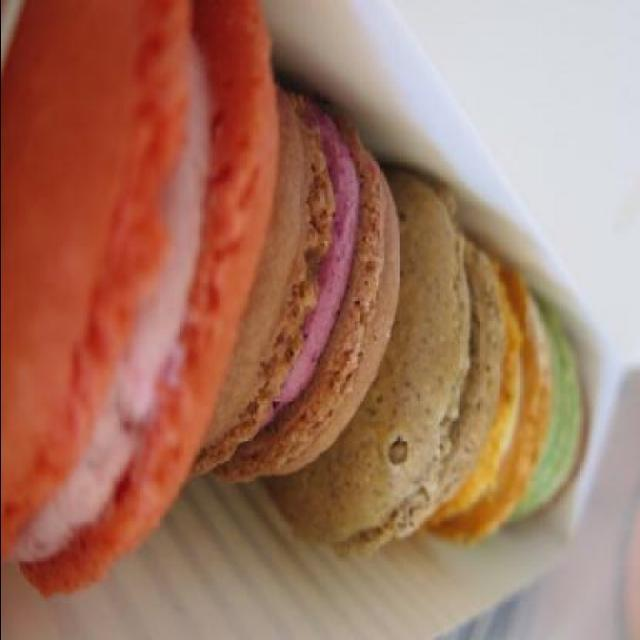Macaron: (2, 1, 626, 608)
